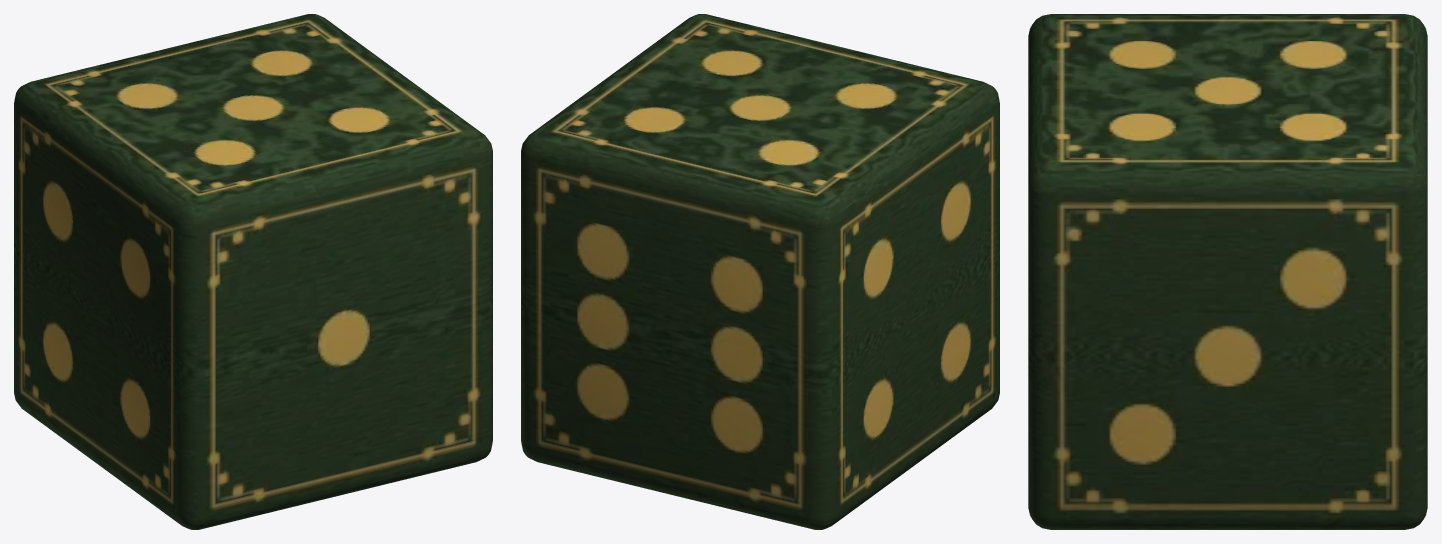
Rendered from bosmer-d6.glb.
The picture shows the model from 3 angles, left to right: view 1: azimuth 30°, elevation 25°; view 2: azimuth 150°, elevation 25°; view 3: azimuth 270°, elevation 25°; orthographic projection. The views are drawn at different scales.
Parts seen in each view (by area): view 1: bosmer_d6; view 2: bosmer_d6; view 3: bosmer_d6.
Boxes of the visible parts, x1,y1,x2,y2 form: bosmer_d6: (14,14,492,529); bosmer_d6: (521,14,999,529); bosmer_d6: (1028,14,1427,529).
Bounding box in the file's own units: 1.4 × 1.4 × 1.4.
1 material, 1 textured.
